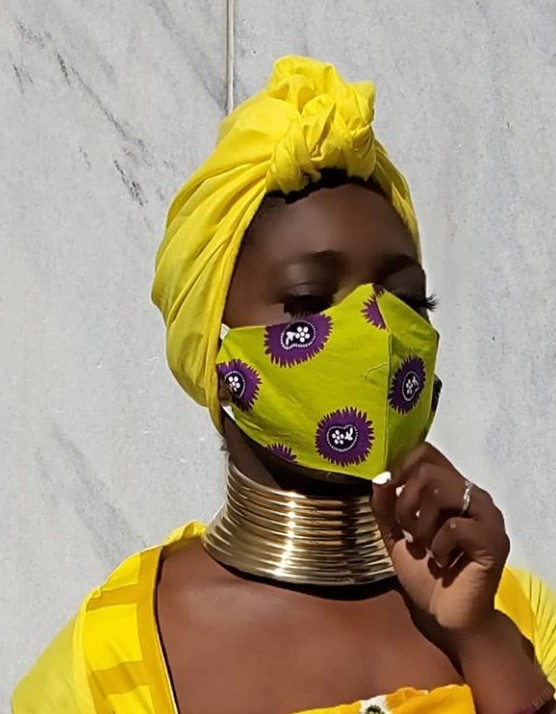face_with_mask: (154, 124, 434, 483)
